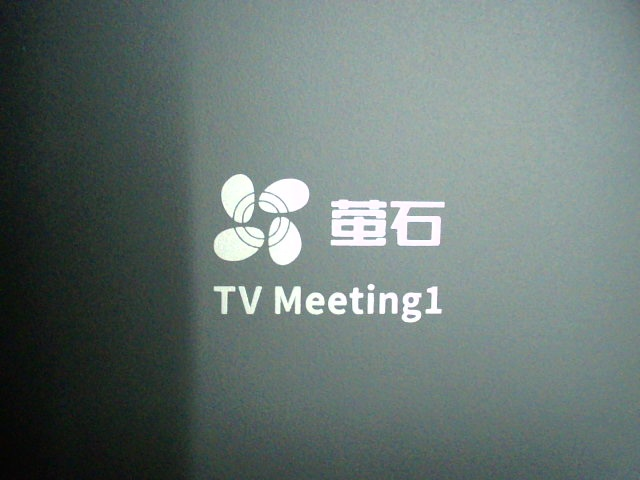BA_Yingshi: (201, 171, 448, 322)
